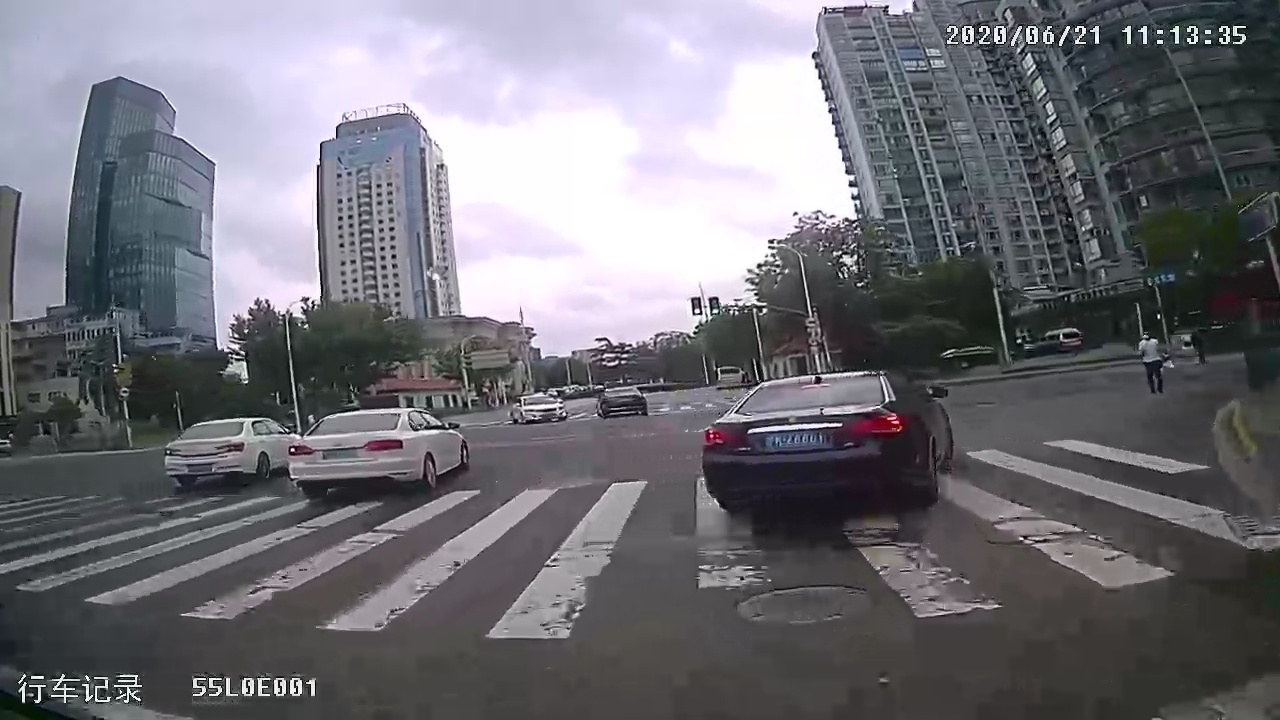crosswalk: (11, 453, 1277, 635)
